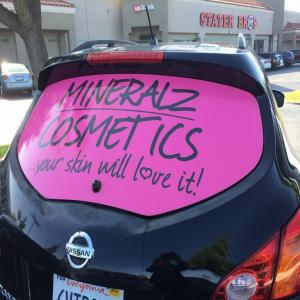Vehicle-registration-plate: (53, 275, 125, 300), (17, 78, 23, 82)
